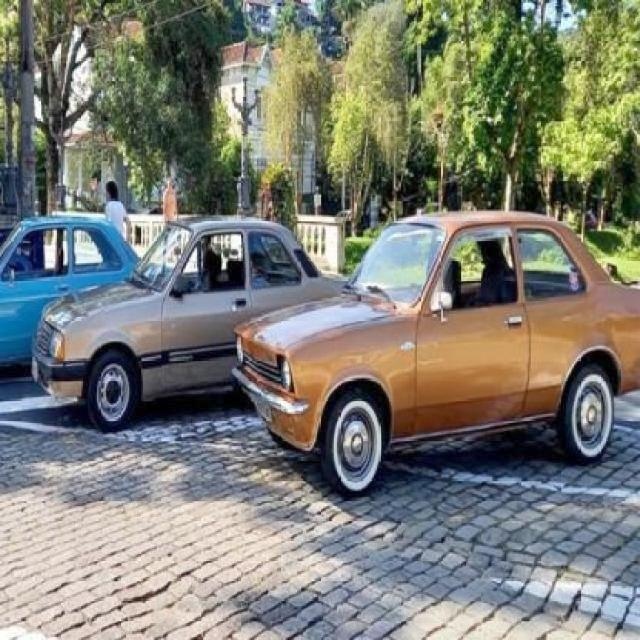car: (229, 211, 640, 487), (32, 222, 357, 441)
